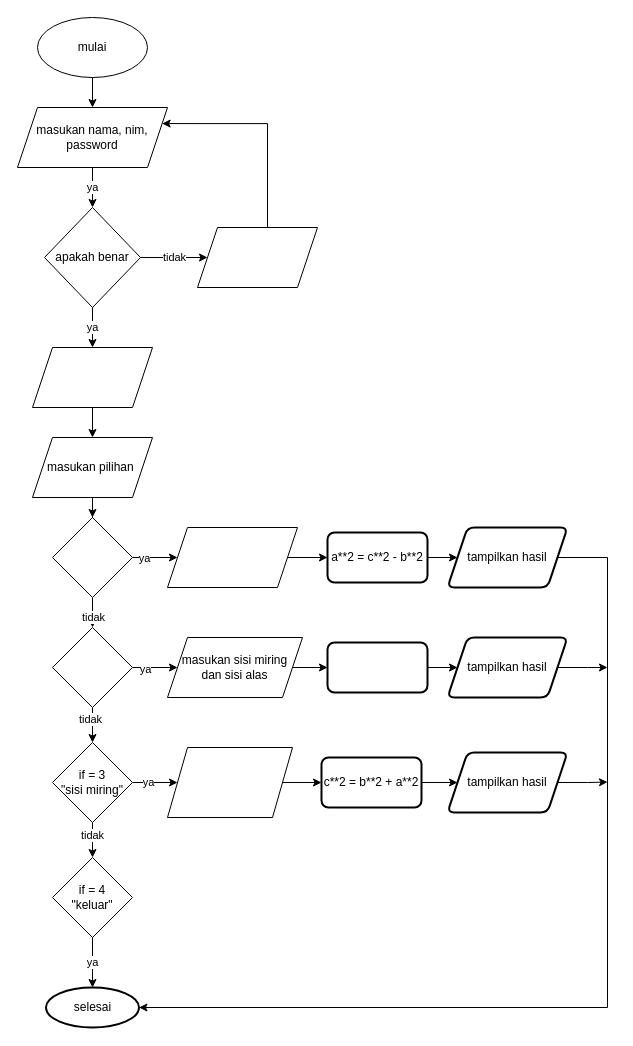
Some shapes in this 633 by 1046 pixel diagram are drawn without their labels. Here are the shapes that lost their labels. From the top down, the centre of each, then its label:
point 257,257: login gagal
point 92,377: login berhasil
point 92,557: if = 1 "alas"
point 232,557: masukan sisi miring dan sisi tegak
point 92,667: if = 2 "sisi tegak"
point 377,667: b**2 = c**2 - a**2
point 229,782: masukan sisi tegak dan sisi alas
